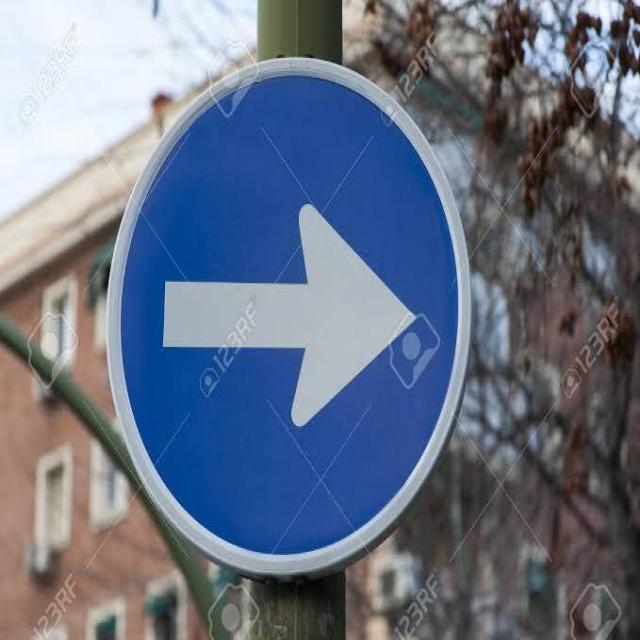Turn Right: (89, 54, 478, 529)
